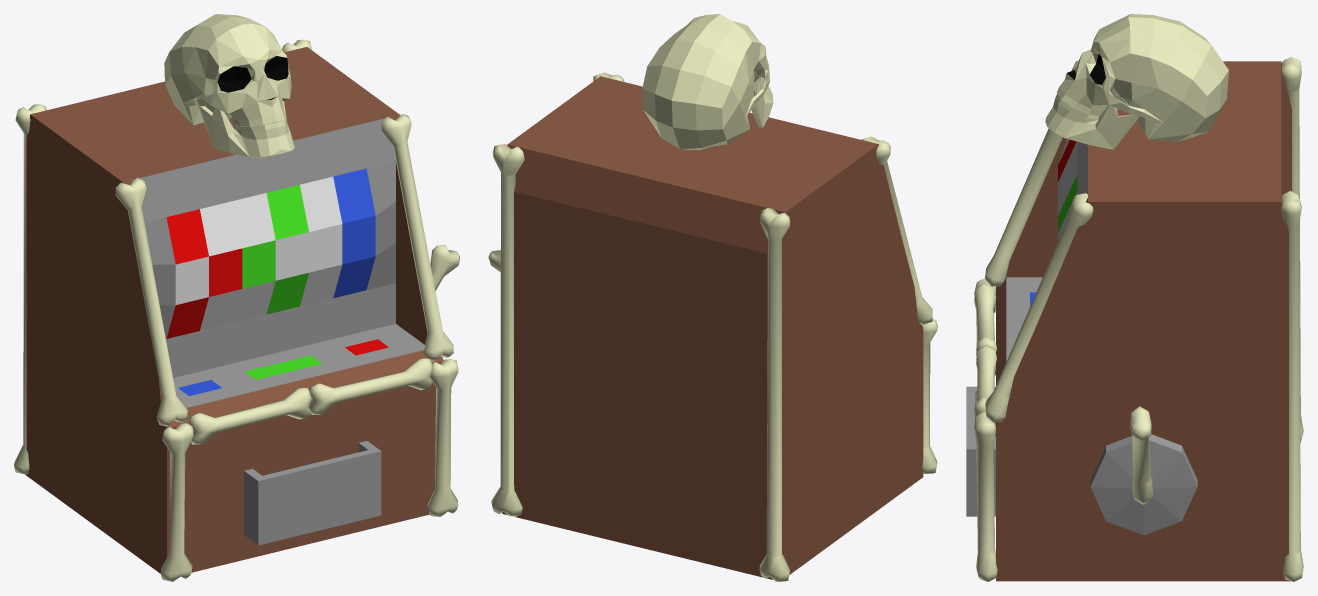
The model's file is slotv02.fbx.
The picture shows the model from 3 angles, left to right: view 1: azimuth 30°, elevation 25°; view 2: azimuth 150°, elevation 25°; view 3: azimuth 270°, elevation 25°; orthographic projection. The views are drawn at different scales.
Parts seen in each view (by area): view 1: MAQUINA; view 2: MAQUINA; view 3: MAQUINA.
Part boxes in pixels (x1,y1,x2,y2): MAQUINA: (14, 14, 459, 581); MAQUINA: (488, 14, 937, 581); MAQUINA: (966, 14, 1303, 581).
Bounding box in the file's own units: 1 × 1.21 × 0.7519.
